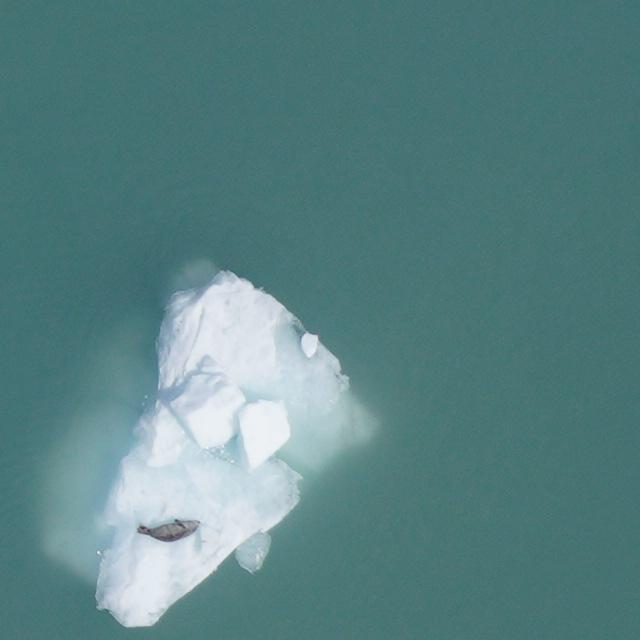seal: (135, 511, 201, 548)
